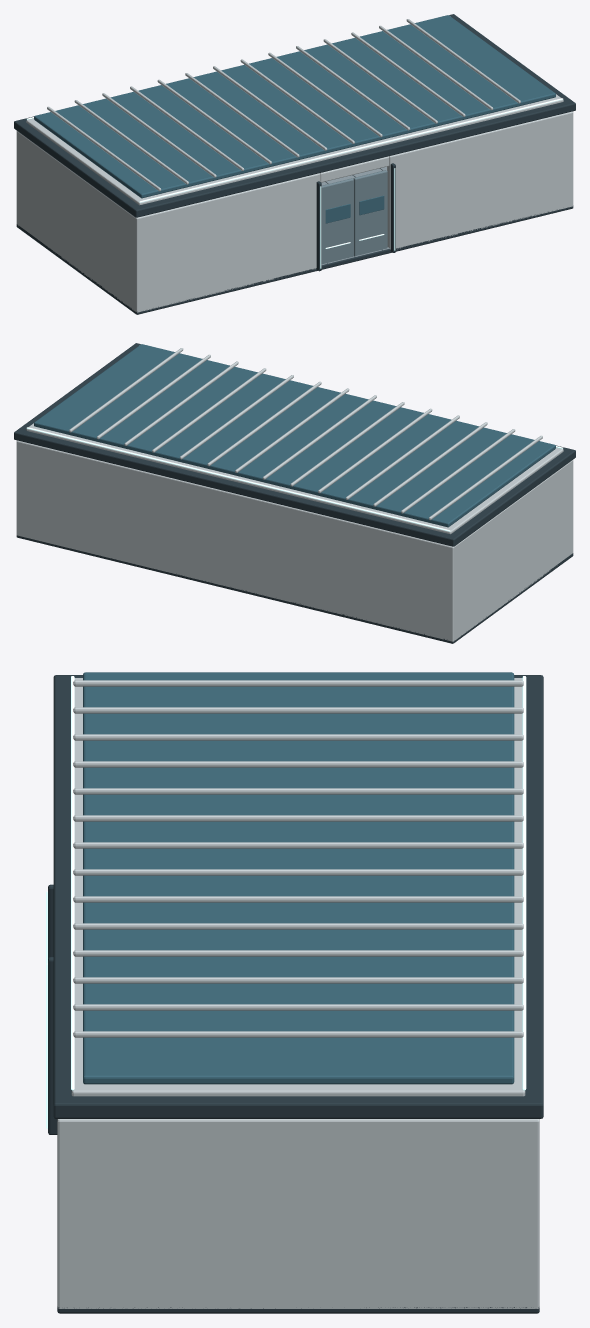
The model's file is greenhouse-shell.glb.
3 renders of one model, top to bottom at view 1: azimuth 30°, elevation 25°; view 2: azimuth 150°, elevation 25°; view 3: azimuth 270°, elevation 25°, orthographic. The views are drawn at different scales.
Visible parts, largest first — view 1: Cutaway_Ivory, Roof_Glass, Roof_Ivory, Roof_Dark, DoorRight_Steel, DoorLeft_Steel, Floor_Dark, Cutaway_Dark, Roof_Accent; view 2: Back_Ivory, Roof_Glass, Cutaway_Ivory, Roof_Ivory, Roof_Dark, Floor_Dark, Roof_Accent; view 3: Roof_Glass, Cutaway_Ivory, Roof_Ivory, Roof_Dark, Roof_Accent, Floor_Dark, Cutaway_Dark, Back_Ivory.
Part boxes in pixels (<box>): Cutaway_Ivory: <box>17,111,573,312</box>; Roof_Glass: <box>34,15,555,198</box>; Roof_Ivory: <box>26,19,563,205</box>; Roof_Dark: <box>14,14,575,217</box>; DoorRight_Steel: <box>353,170,387,256</box>; DoorLeft_Steel: <box>321,178,353,264</box>; Floor_Dark: <box>16,169,573,314</box>; Cutaway_Dark: <box>316,163,395,271</box>; Roof_Accent: <box>27,98,562,202</box>; Back_Ivory: <box>16,440,455,641</box>; Roof_Glass: <box>34,344,555,527</box>; Cutaway_Ivory: <box>448,460,573,640</box>; Roof_Ivory: <box>26,348,563,534</box>; Roof_Dark: <box>14,343,575,546</box>; Floor_Dark: <box>16,535,573,643</box>; Roof_Accent: <box>27,427,562,531</box>; Roof_Glass: <box>83,672,514,1084</box>; Cutaway_Ivory: <box>57,1119,539,1308</box>; Roof_Ivory: <box>71,678,525,1096</box>; Roof_Dark: <box>53,675,543,1118</box>; Roof_Accent: <box>71,676,526,1090</box>; Floor_Dark: <box>57,1306,539,1313</box>; Cutaway_Dark: <box>48,884,57,1134</box>; Back_Ivory: <box>529,1119,539,1308</box>.
Size of the model in its own units: 15.92 by 4.05 by 7.78.
